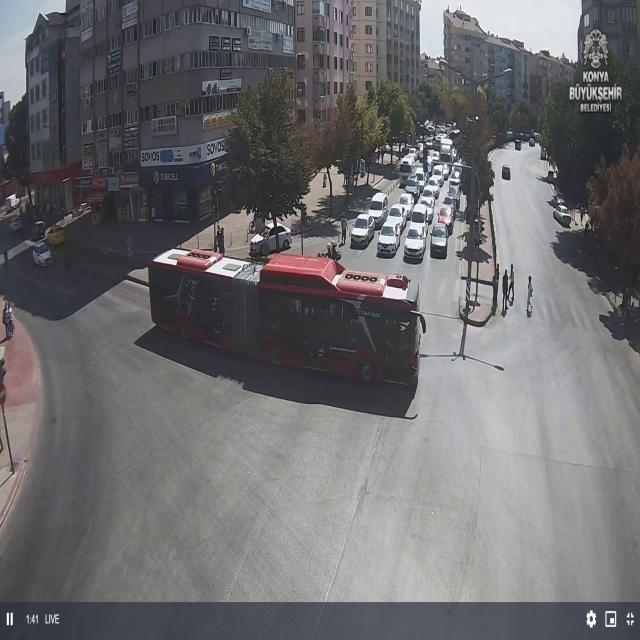Bus: (146, 245, 429, 393)
Car: (247, 224, 294, 256), (350, 214, 376, 247), (377, 221, 402, 255), (403, 225, 426, 260), (366, 192, 389, 226), (429, 222, 448, 258), (385, 203, 409, 230), (410, 203, 431, 232), (31, 242, 53, 267), (46, 224, 68, 247), (396, 192, 415, 218), (437, 204, 454, 233), (554, 204, 572, 227), (442, 193, 458, 217), (404, 179, 422, 200), (421, 184, 438, 206), (32, 221, 46, 240), (448, 172, 462, 190), (8, 216, 23, 232), (529, 138, 535, 146)
